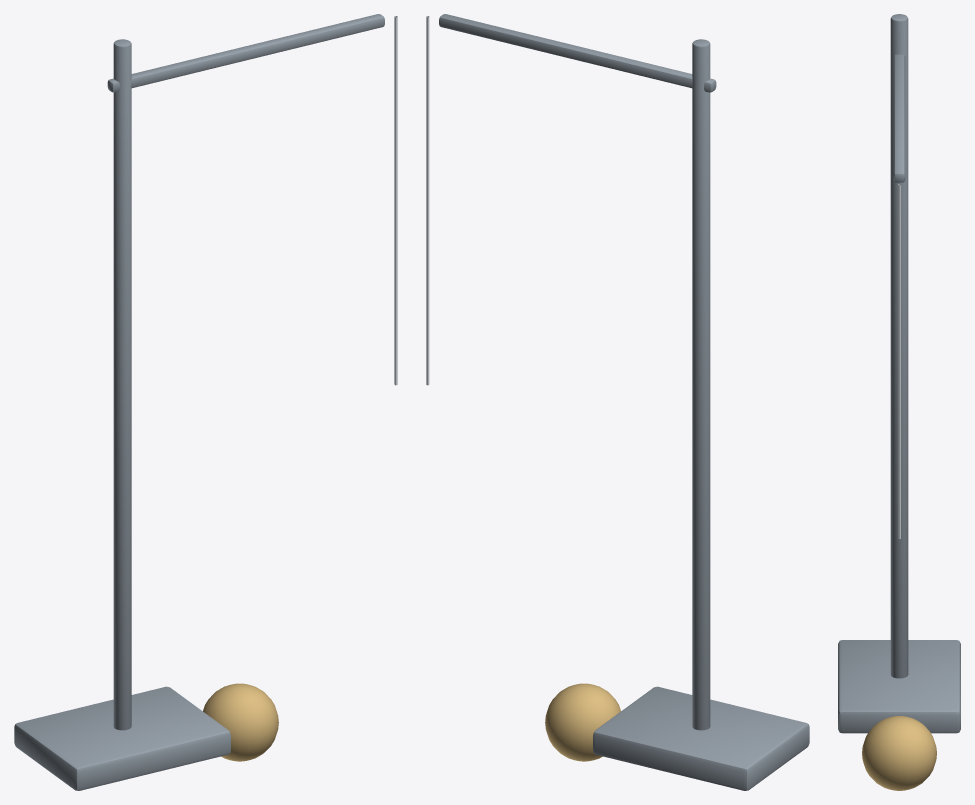
Rendered from pendulum_apparatus.glb.
The picture shows the model from 3 angles, left to right: view 1: azimuth 30°, elevation 25°; view 2: azimuth 150°, elevation 25°; view 3: azimuth 270°, elevation 25°; orthographic projection. The views are drawn at different scales.
Parts seen in each view (by area): view 1: Stand_Base, Stand_Rod, Bob, Stand_Arm, String; view 2: Stand_Base, Stand_Rod, Bob, Stand_Arm, String; view 3: Stand_Rod, Stand_Base, Bob, Stand_Arm, String.
Boxes of the visible parts, box(x1,y1,x2,y2) form: Stand_Base: box(14, 686, 230, 790); Stand_Rod: box(113, 39, 131, 730); Bob: box(203, 683, 278, 761); Stand_Arm: box(107, 14, 384, 92); String: box(394, 16, 397, 385); Stand_Base: box(593, 686, 809, 790); Stand_Rod: box(692, 39, 710, 730); Bob: box(545, 683, 620, 761); Stand_Arm: box(439, 14, 716, 92); String: box(426, 16, 429, 385); Stand_Rod: box(890, 14, 908, 678); Stand_Base: box(838, 640, 960, 733); Bob: box(862, 716, 936, 790); Stand_Arm: box(893, 54, 905, 182); String: box(898, 184, 900, 538).
Bounding box in the file's own units: 2.71 × 5.46 × 0.85.
